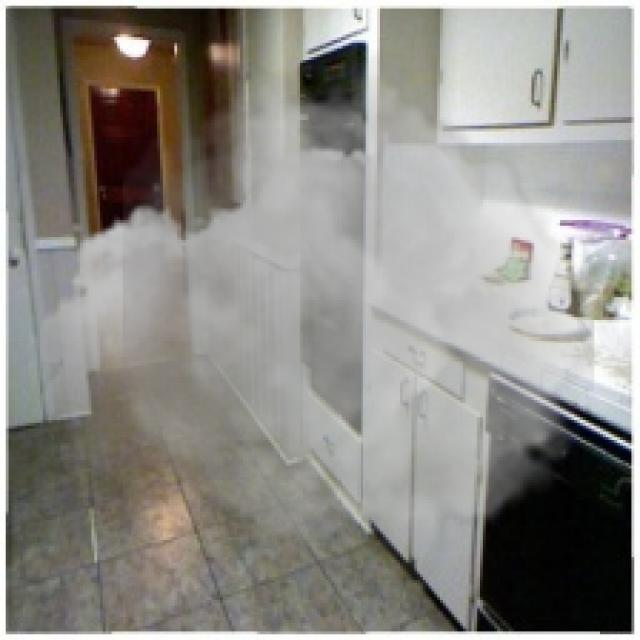smoke: (29, 48, 594, 583)
